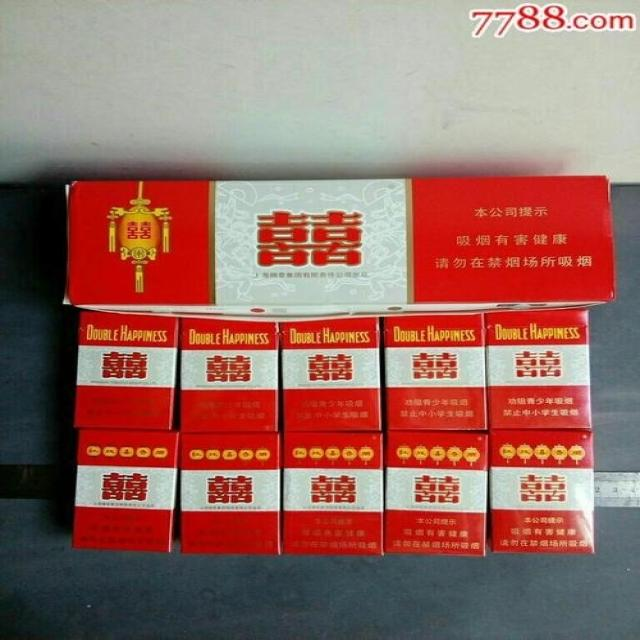box: (63, 177, 613, 321), (486, 431, 595, 554), (72, 430, 179, 554), (484, 309, 591, 431), (179, 431, 283, 556), (383, 431, 486, 557), (284, 430, 387, 554), (74, 311, 179, 430), (385, 313, 488, 431), (279, 317, 380, 431), (179, 318, 278, 433)
